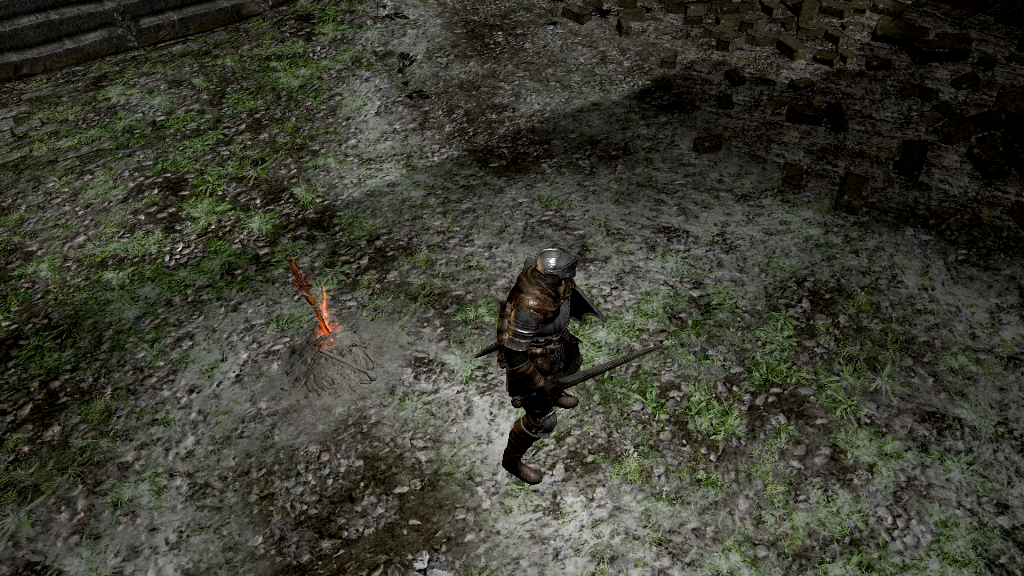bonfire: (277, 252, 351, 364)
player: (495, 247, 669, 484)
